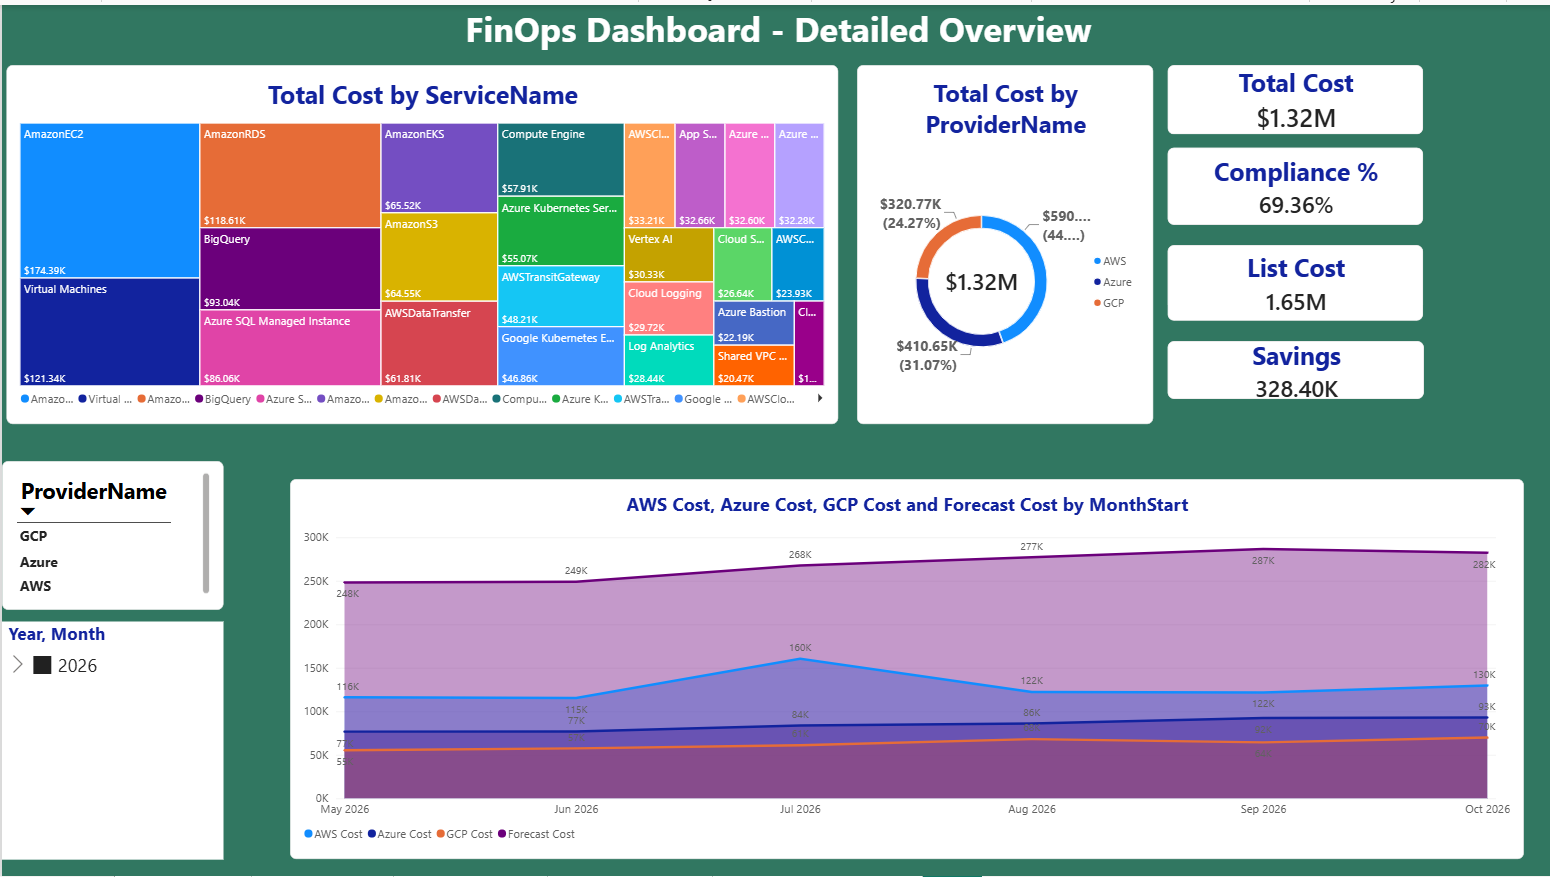

What the dashboard file says about the page in this screenshot:
{"tool":"powerbi","page":{"name":"Executive","canvas":[1920,1080],"ordinal":0},"visuals":[{"type":"cardVisual","fields":{"Data":["Focus.Total Cost"]},"box":[1445,74.3,317.1,86.3],"z":0},{"type":"cardVisual","fields":{"Data":["Focus.List Cost"]},"box":[1445,297,317.1,94.3],"z":1000},{"type":"cardVisual","fields":{"Data":["Focus.Savings"]},"box":[1445,417.5,318.1,72.5],"z":2000},{"type":"cardVisual","fields":{"Data":["Focus.Compliance %"]},"box":[1445,176.6,317.1,96.3],"z":3000},{"type":"donutChart","fields":{"Category":["Focus.ProviderName"],"Y":["Focus.Total Cost"]},"box":[1059.7,74.3,367.3,445.6],"z":4000},{"type":"treemap","fields":{"Group":["Focus.ServiceName"],"Values":["Focus.Total Cost"]},"box":[6,74.3,1031.2,445.2],"z":5000},{"type":"tableEx","fields":{"Values":["Focus.ProviderName"]},"box":[0,566,275,184.6],"z":6000},{"type":"areaChart","fields":{"Category":["Focus.MonthStart"],"Y":["Focus.AWS Cost","Focus.Azure Cost","Focus.GCP Cost","Focus.Forecast Cost"]},"box":[357.6,587.4,1530,471.3],"z":7000},{"type":"slicer","fields":{"Values":["MonthFilter.MonthStart.Variation.Date Hierarchy.Year","MonthFilter.MonthStart.Variation.Date Hierarchy.Month"]},"box":[0,764.7,275,295],"z":8000},{"type":"textbox","box":[6,0,1914.7,74.3],"z":9000}]}

Visuals, with their boxes in screenshot pixels (x1, y1, x2, y2), scaled from the page's 1920x1080 canvas onto the 1550x877 screenshot:
cardVisual - Focus.Total Cost: BBox(1167, 60, 1423, 130)
cardVisual - Focus.List Cost: BBox(1167, 241, 1423, 318)
cardVisual - Focus.Savings: BBox(1167, 339, 1423, 398)
cardVisual - Focus.Compliance %: BBox(1167, 143, 1423, 222)
donutChart - Focus.ProviderName x Focus.Total Cost: BBox(855, 60, 1152, 422)
treemap - Focus.ServiceName x Focus.Total Cost: BBox(5, 60, 837, 422)
tableEx - Focus.ProviderName: BBox(0, 460, 222, 610)
areaChart - Focus.MonthStart x Focus.AWS Cost: BBox(289, 477, 1524, 860)
slicer - MonthFilter.MonthStart.Variation.Date Hierarchy.Year x MonthFilter.MonthStart.Variation.Date Hierarchy.Month: BBox(0, 621, 222, 861)
textbox: BBox(5, 0, 1549, 60)
